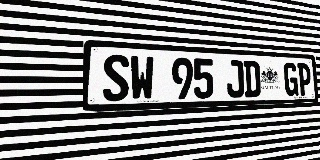5: (193, 58, 214, 99)
9: (172, 57, 194, 99)
D: (243, 61, 261, 97)
G: (283, 62, 299, 96)
J: (226, 60, 244, 98)
P: (297, 63, 312, 96)
S: (103, 54, 129, 102)
W: (130, 55, 155, 101)
